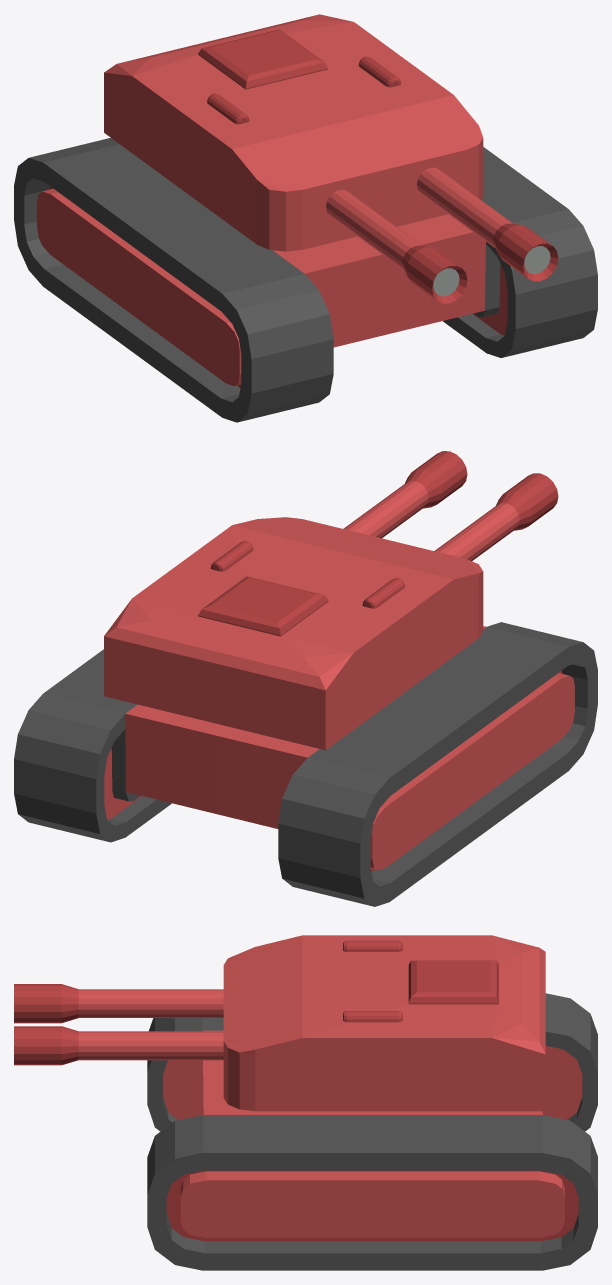
Rendered from Tank4.enemy.fbx.
3 views of the same model, one above another, from view 1: azimuth 30°, elevation 25°; view 2: azimuth 150°, elevation 25°; view 3: azimuth 270°, elevation 25° (orthographic). The views are drawn at different scales.
Parts seen in each view (by area): view 1: Tank4.enemy, tank4.enemy.turret; view 2: Tank4.enemy, tank4.enemy.turret; view 3: Tank4.enemy, tank4.enemy.turret.
Boxes of the visible parts, box(x1,y1,x2,y2) form: Tank4.enemy: box(14, 138, 597, 422); tank4.enemy.turret: box(104, 14, 558, 303); Tank4.enemy: box(14, 622, 597, 906); tank4.enemy.turret: box(104, 451, 558, 750); Tank4.enemy: box(147, 993, 597, 1270); tank4.enemy.turret: box(14, 935, 545, 1111).
Bounding box in the file's own units: 3.81 × 2.37 × 5.86.
